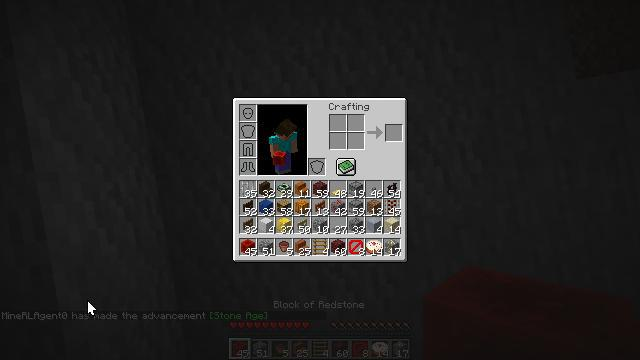cursor: (87, 300, 97, 316)
